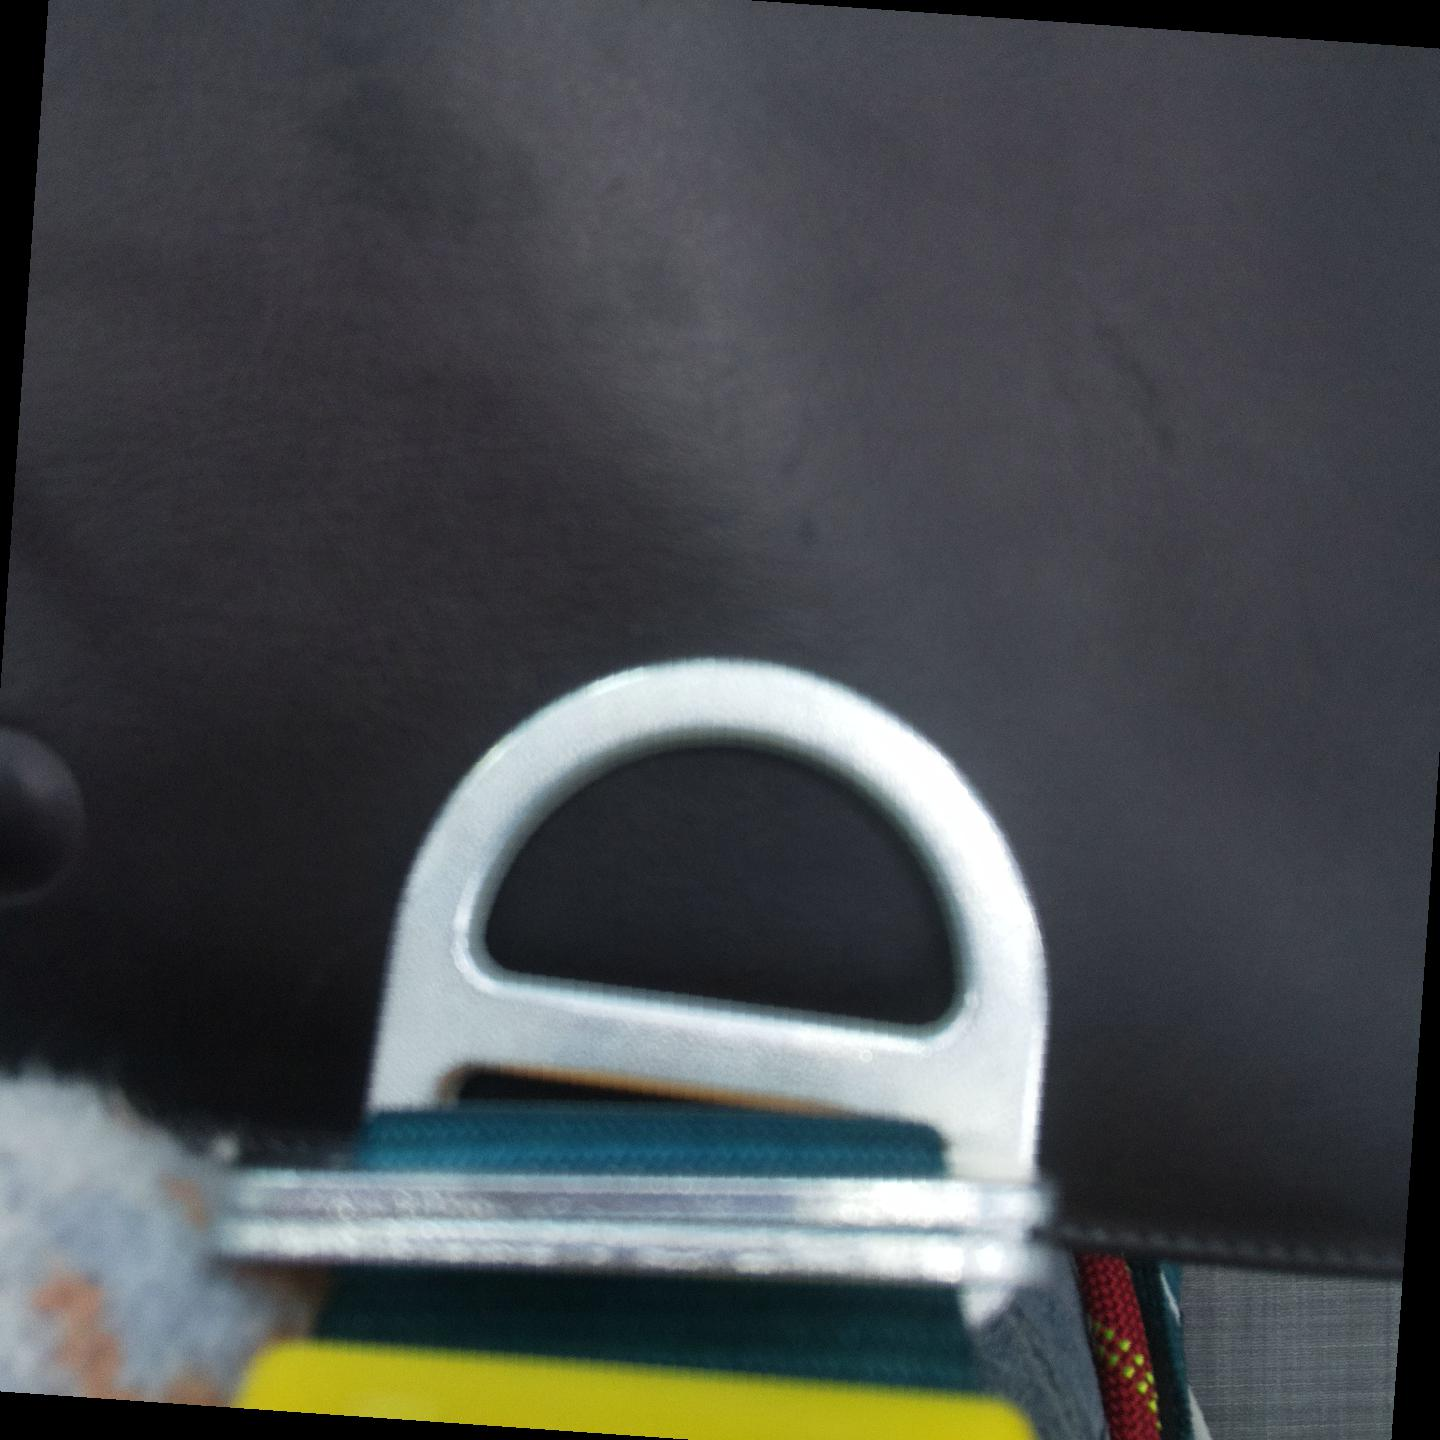UNSUCCESS: (355, 651, 1058, 1149)
